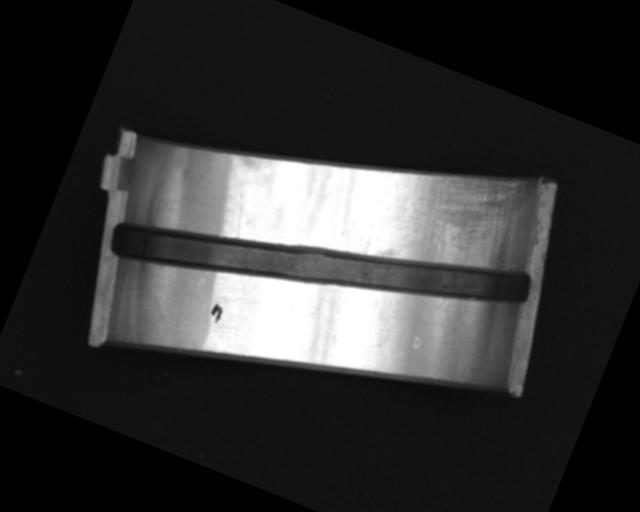blot: (205, 301, 226, 326)
bruise: (409, 334, 423, 350)
gap: (105, 128, 533, 401)
nick: (223, 192, 252, 240)
scratch: (373, 138, 534, 299)
